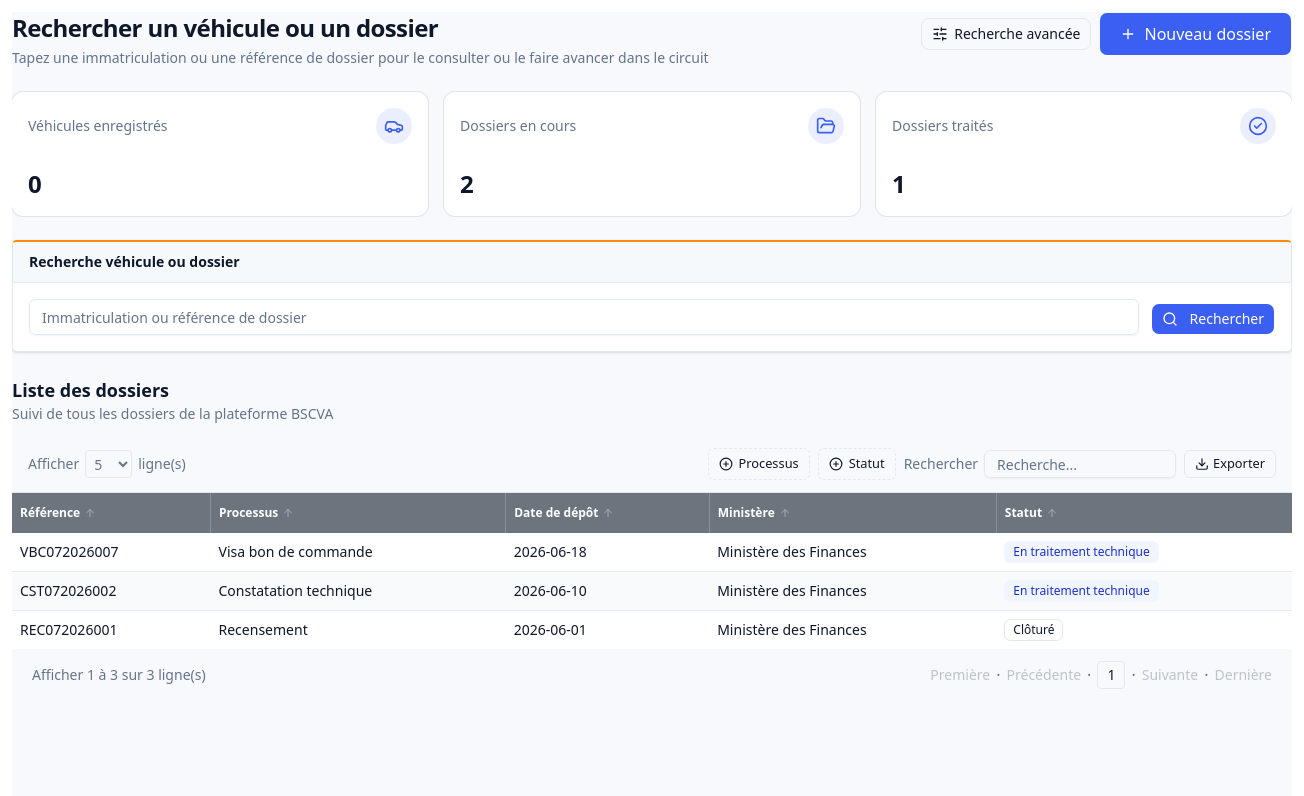
Test case: TraitementDossierPage — recherche par référence unique › shows no Traiter button once the circuit is finished
Type "REC072026001" into the field with test id "traitement-dossier-search-input" at (584, 317), box [29,299,1139,335]
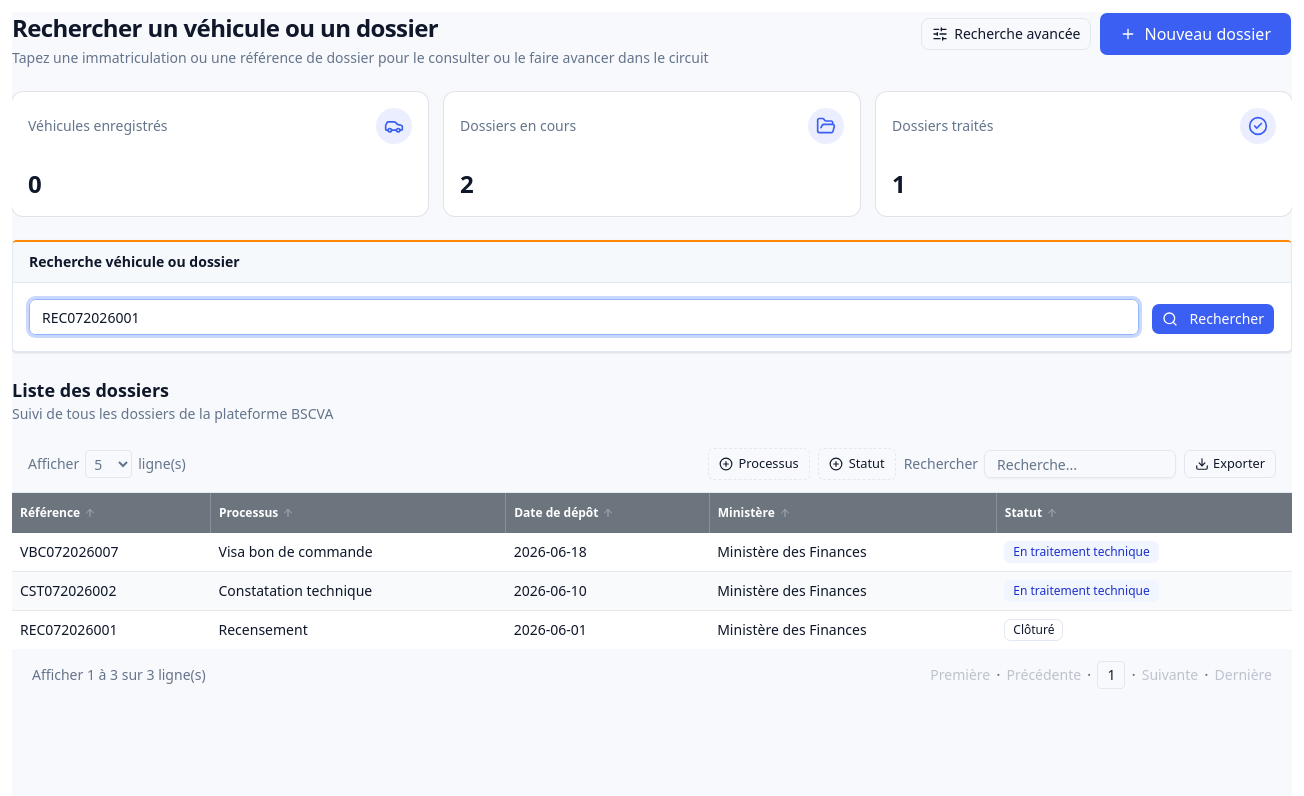
Click the button with test id "traitement-dossier-search-button" at (1213, 319), box [1151,303,1275,335]
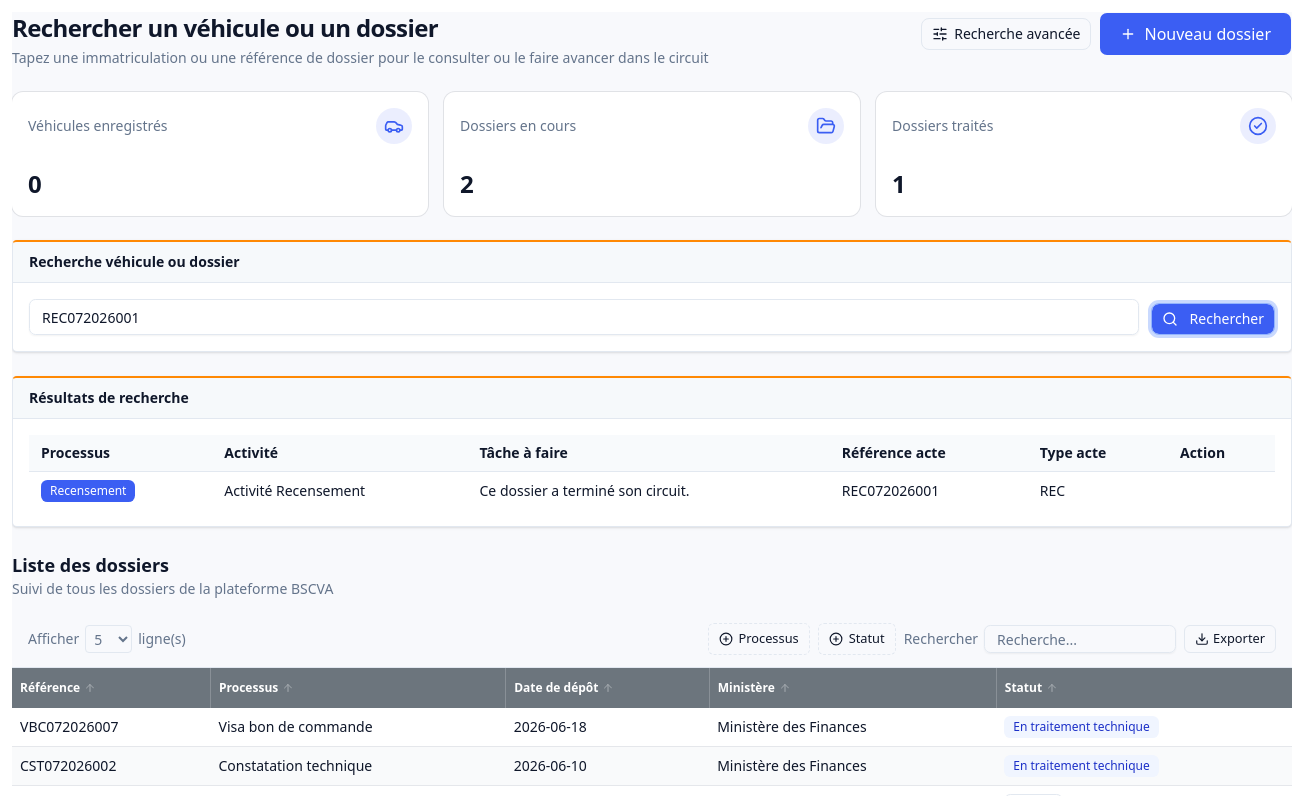
Check: the row with test id "traitement-dossier-result-row" is shown, box [29,472,1275,510]
